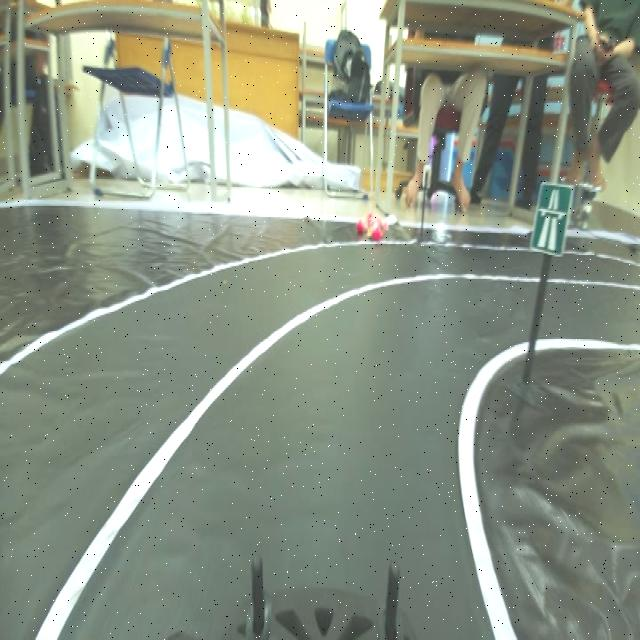highway_entry: (532, 173, 572, 258)
